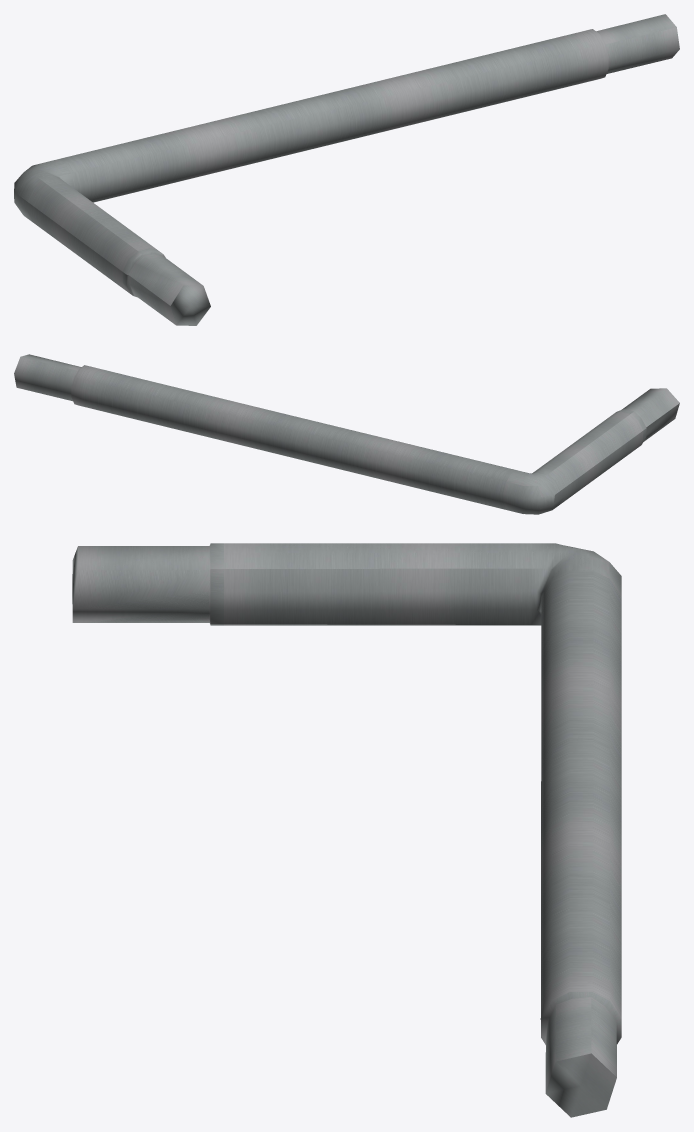
3 renders of one model, top to bottom at view 1: azimuth 30°, elevation 25°; view 2: azimuth 150°, elevation 25°; view 3: azimuth 270°, elevation 25°, orthographic. The views are drawn at different scales.
Parts seen in each view (by area): view 1: pCylinder2; view 2: pCylinder2; view 3: pCylinder2.
Boxes of the visible parts, <box> form: pCylinder2: <box>14,14,679,325</box>; pCylinder2: <box>14,354,679,514</box>; pCylinder2: <box>72,543,621,1117</box>.
Bounding box in the file's own units: 68.93 × 4.55 × 30.87.
1 material, 1 textured.
